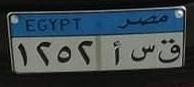1: (16, 39, 29, 68)
2: (35, 39, 52, 69), (77, 39, 95, 67)
5: (56, 45, 72, 66)
alif: (111, 38, 124, 69)
qaaf: (157, 37, 182, 65)
seen: (127, 43, 157, 65)
